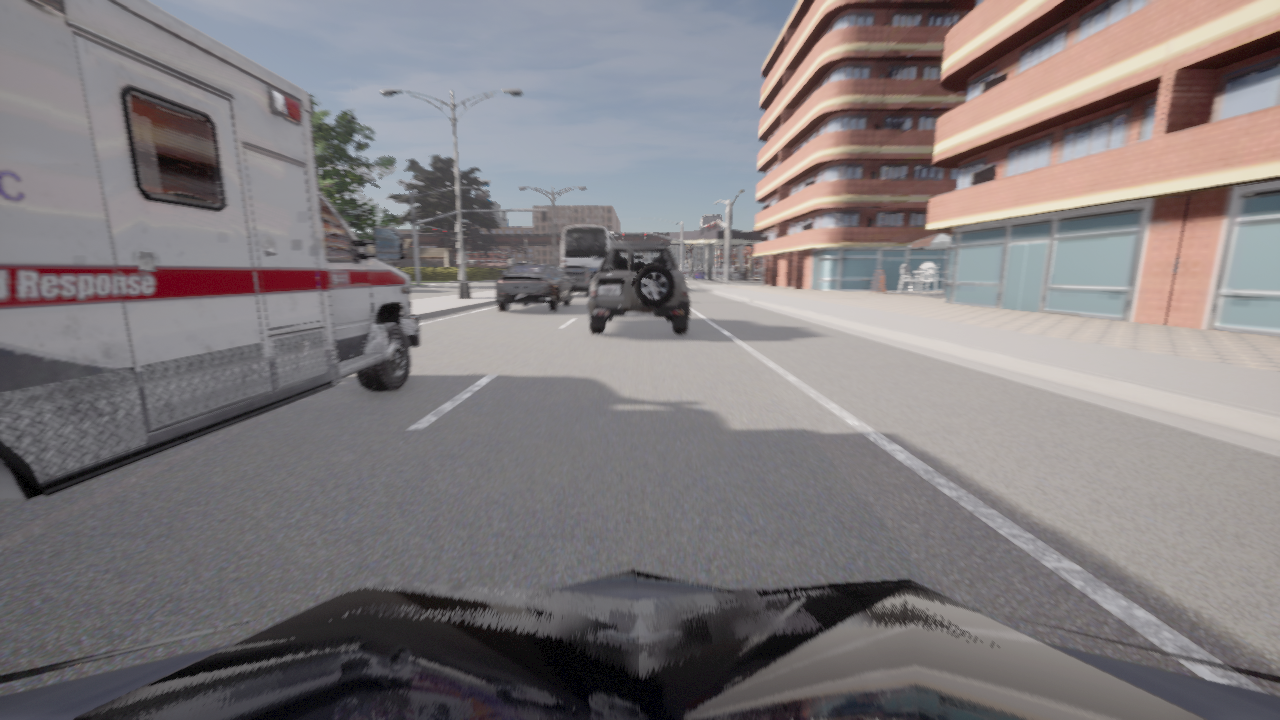cyclist: (0, 569, 1279, 719), (588, 242, 690, 333), (496, 264, 571, 310), (561, 225, 615, 273), (561, 266, 594, 296), (693, 270, 705, 279), (731, 271, 742, 279)
